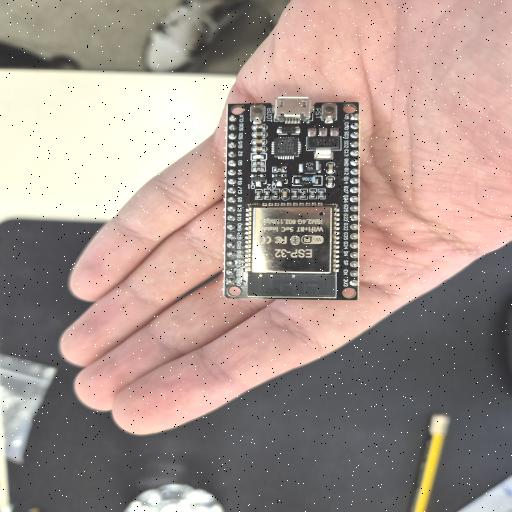arduino-nano-iot-33: (364, 309, 366, 311)
esp32-dev: (226, 104, 357, 298)
